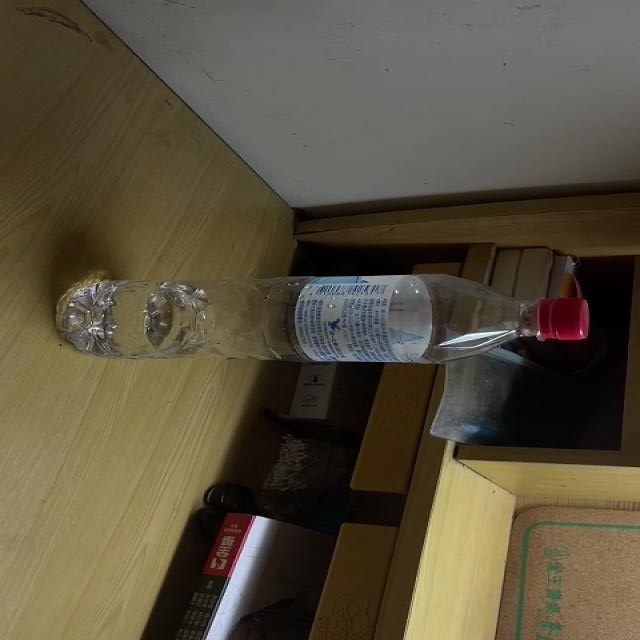Water: (56, 272, 594, 365)
